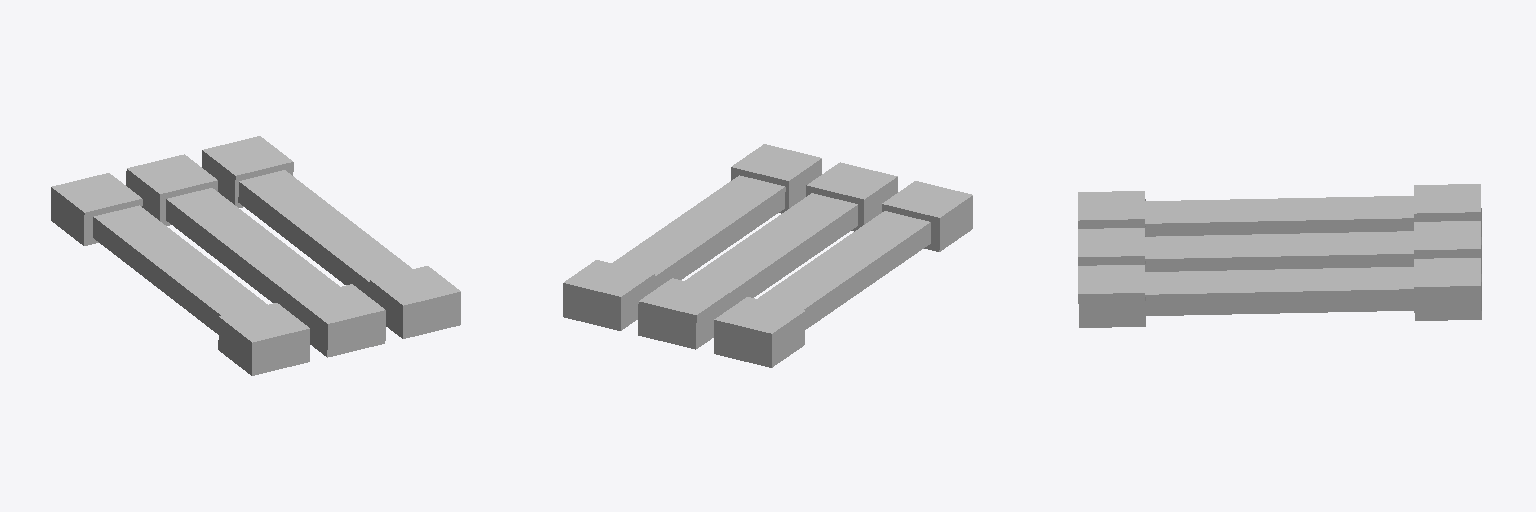
File: via.OBJ
The picture shows the model from 3 angles: view 1: azimuth 30°, elevation 25°; view 2: azimuth 150°, elevation 25°; view 3: azimuth 270°, elevation 25°; orthographic projection.
Parts seen in each view (by area): view 1: Group27384, Group26264, Group30760; view 2: Group27384, Group26264, Group30760; view 3: Group30760, Group26264, Group27384.
Boxes of the visible parts, <box> form: Group27384: <box>51,173,309,375</box>; Group26264: <box>126,154,385,357</box>; Group30760: <box>202,136,460,338</box>; Group27384: <box>714,181,972,367</box>; Group26264: <box>638,162,897,349</box>; Group30760: <box>563,144,821,330</box>; Group30760: <box>1078,258,1481,327</box>; Group26264: <box>1078,221,1481,281</box>; Group27384: <box>1078,184,1481,244</box>.
Size of the model in its own units: 1.19 by 0.2308 by 1.99.